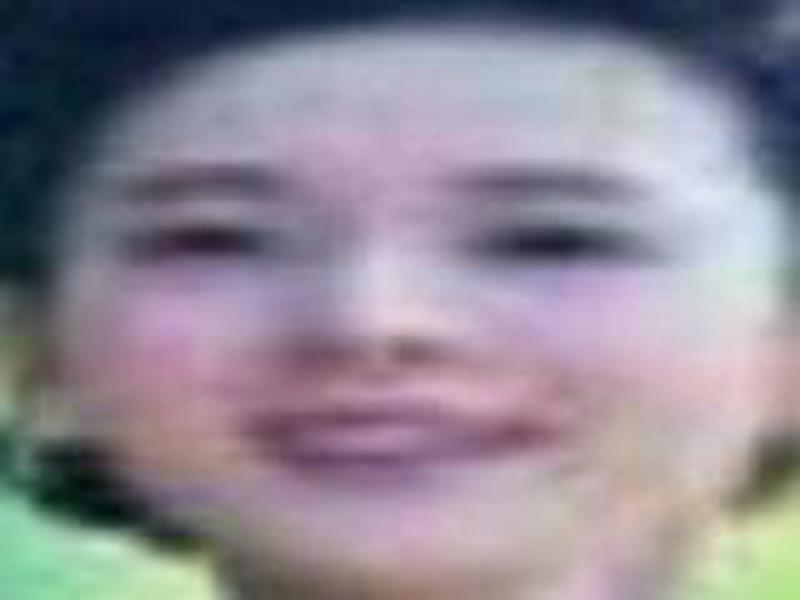without_mask: (65, 27, 770, 587)
